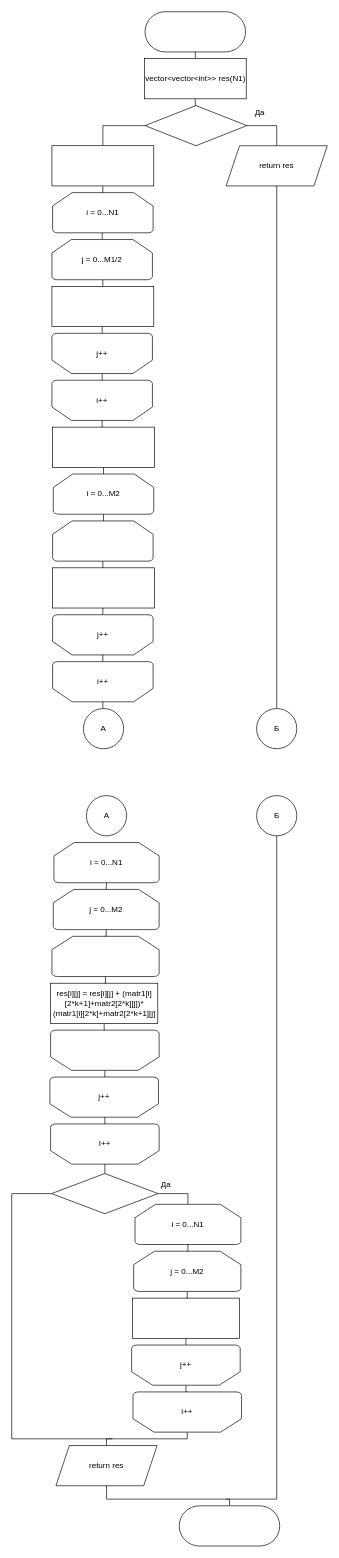
This 339x1558 diagram has some shape labels left out. Here are the shapes that lost their labels. From the top down, the box of each, then its label:
(144, 11, 246, 52): Начало
(144, 105, 247, 146): M1 != N2
(51, 145, 154, 186): vector<int> H (N1)
(51, 286, 154, 327): H[i] = H [i] + matr1[ i ][ j*2] *matr1[ i ] [j*2 + 1]
(52, 426, 154, 467): vector<int> V (M2)
(52, 520, 153, 561): j = 0...N2/2
(52, 567, 154, 608): V[i] = V [i] + matr2[ j*2][ i ] *matr[j*2 + 1][ i ]
(51, 936, 159, 977): k = 0...M1/2
(50, 1029, 159, 1070): k++
(51, 1173, 158, 1214): M1 %2 == 1
(132, 1297, 240, 1338): res[i][j] = res[i][j] + matr1[i] [M1 - 1]*matr2[M1][j]
(179, 1505, 280, 1546): Конец
